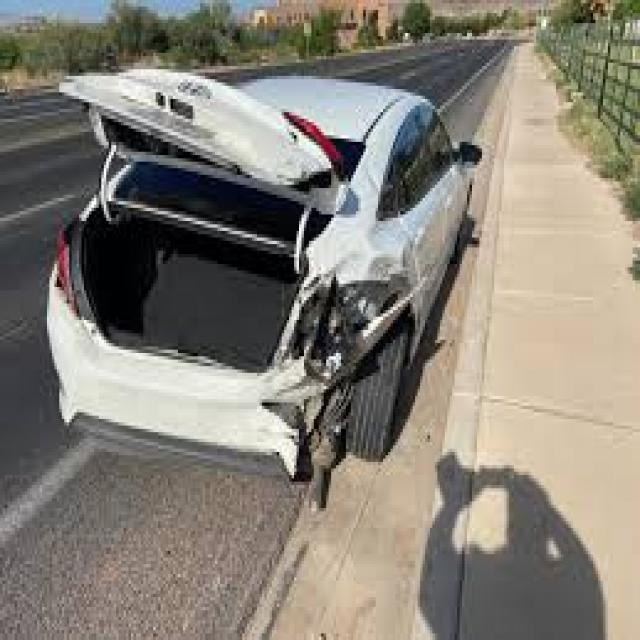damaged-trunk: (43, 59, 341, 214)
